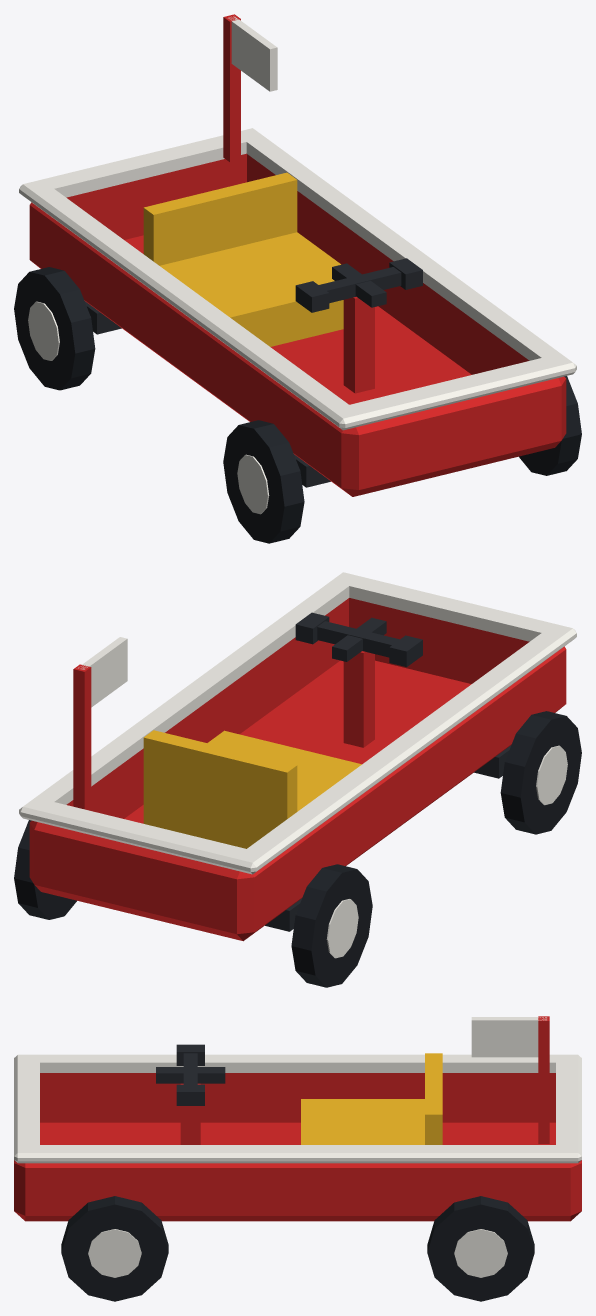
File: veh_derby_radio_wagon_1p.glb
3 views of the same model, one above another, from view 1: azimuth 30°, elevation 25°; view 2: azimuth 150°, elevation 25°; view 3: azimuth 270°, elevation 25° (orthographic). The views are drawn at different scales.
Parts seen in each view (by area): view 1: body, wagon_rim, milk_crate_seat, wagon_wheel, steer_spin, wagon_hub, bolster_f; view 2: body, wagon_rim, milk_crate_seat, wagon_wheel, steer_spin, wagon_hub, bolster_f; view 3: body, wagon_rim, wagon_wheel, milk_crate_seat, wagon_hub, steer_spin.
Boxes of the visible parts, x1=… form: body: x1=29, y1=14, x2=566, y2=496; wagon_rim: x1=19, y1=16, x2=576, y2=430; milk_crate_seat: x1=143, y1=172, x2=343, y2=346; wagon_wheel: x1=14, y1=267, x2=581, y2=543; steer_spin: x1=295, y1=258, x2=422, y2=312; wagon_hub: x1=28, y1=301, x2=269, y2=514; bolster_f: x1=84, y1=301, x2=330, y2=487; body: x1=29, y1=598, x2=566, y2=941; wagon_rim: x1=19, y1=572, x2=576, y2=874; milk_crate_seat: x1=143, y1=730, x2=361, y2=848; wagon_wheel: x1=14, y1=711, x2=581, y2=987; steer_spin: x1=295, y1=612, x2=422, y2=667; wagon_hub: x1=326, y1=745, x2=567, y2=958; bolster_f: x1=265, y1=745, x2=510, y2=931; body: x1=14, y1=1016, x2=581, y2=1221; wagon_rim: x1=14, y1=1017, x2=581, y2=1163; wagon_wheel: x1=61, y1=1196, x2=534, y2=1301; milk_crate_seat: x1=301, y1=1053, x2=442, y2=1144; wagon_hub: x1=88, y1=1229, x2=507, y2=1277; steer_spin: x1=156, y1=1044, x2=225, y2=1105.
Bounding box in the file's own units: 0.96 × 0.88 × 1.8.
